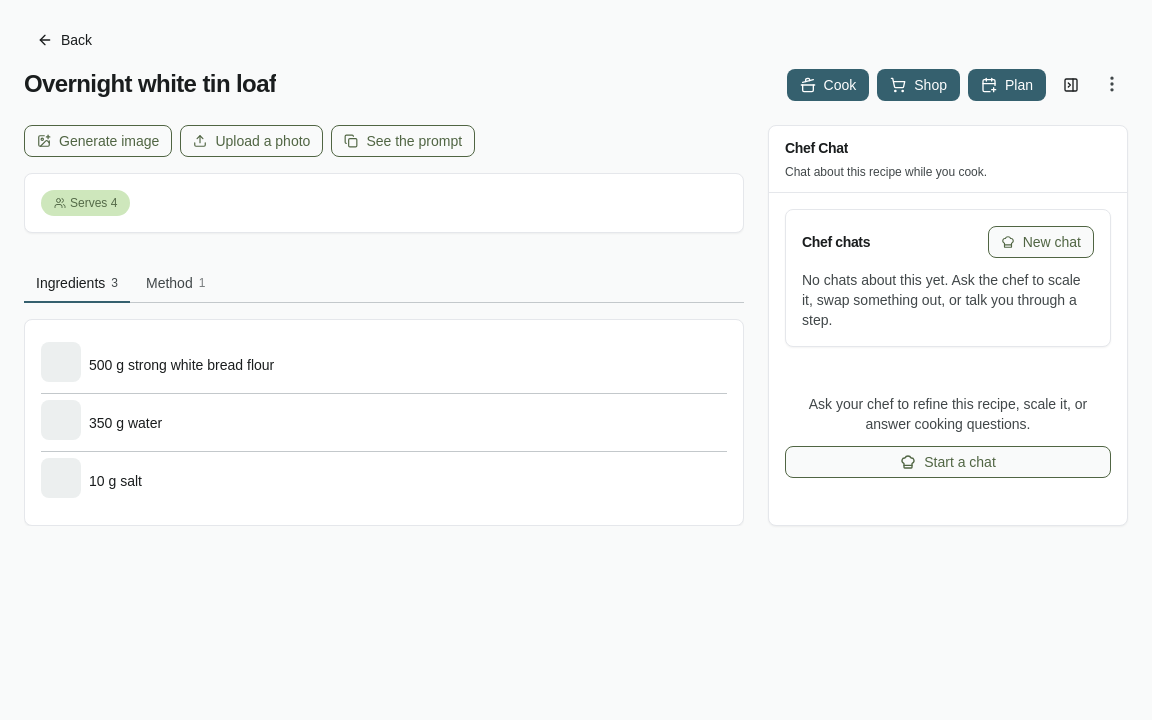
Test: RecipeViewPage — an entry point for the first formula › gives way to "Bake a batch" and "Formula" once a formula exists
This screenshot has width=1152, height=720.
Click the button with test id "recipe-actions-overflow". click: (1112, 84)
box: [1096,68,1128,100]
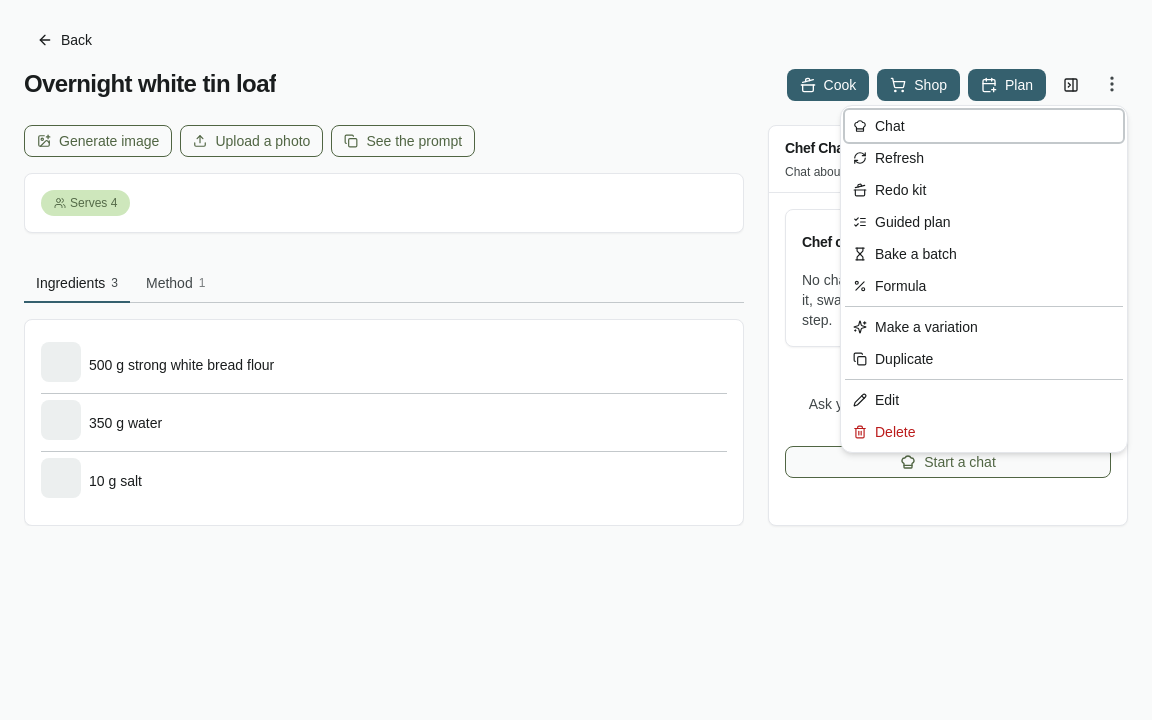
Check: the button with test id "recipe-bake-batch-menu-item" is shown, box [845,238,1123,270]
Check: the button with test id "recipe-formula-menu-item" is shown, box [845,270,1123,302]
